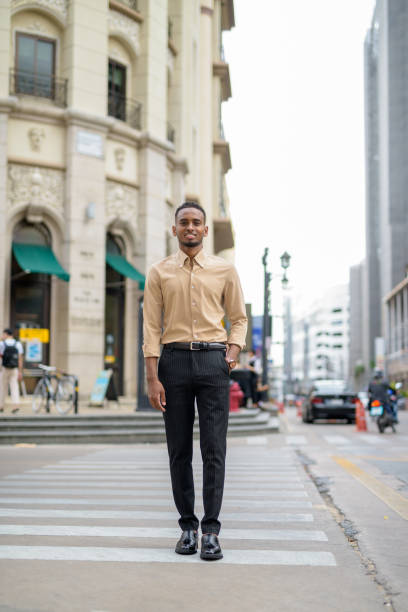otomobil: (282, 365, 367, 445)
yaya: (140, 186, 292, 563), (362, 367, 400, 426)
